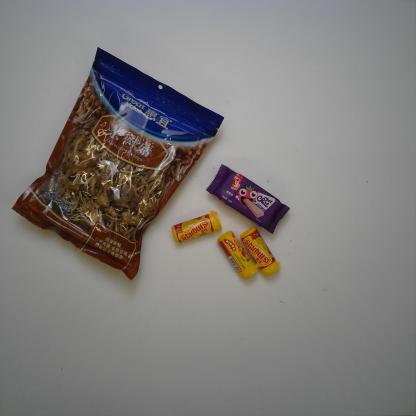Candy: (239, 226, 282, 280), (214, 228, 258, 280), (170, 209, 222, 247)
Dessert: (206, 162, 292, 236)
Dried Food: (9, 43, 226, 283)
